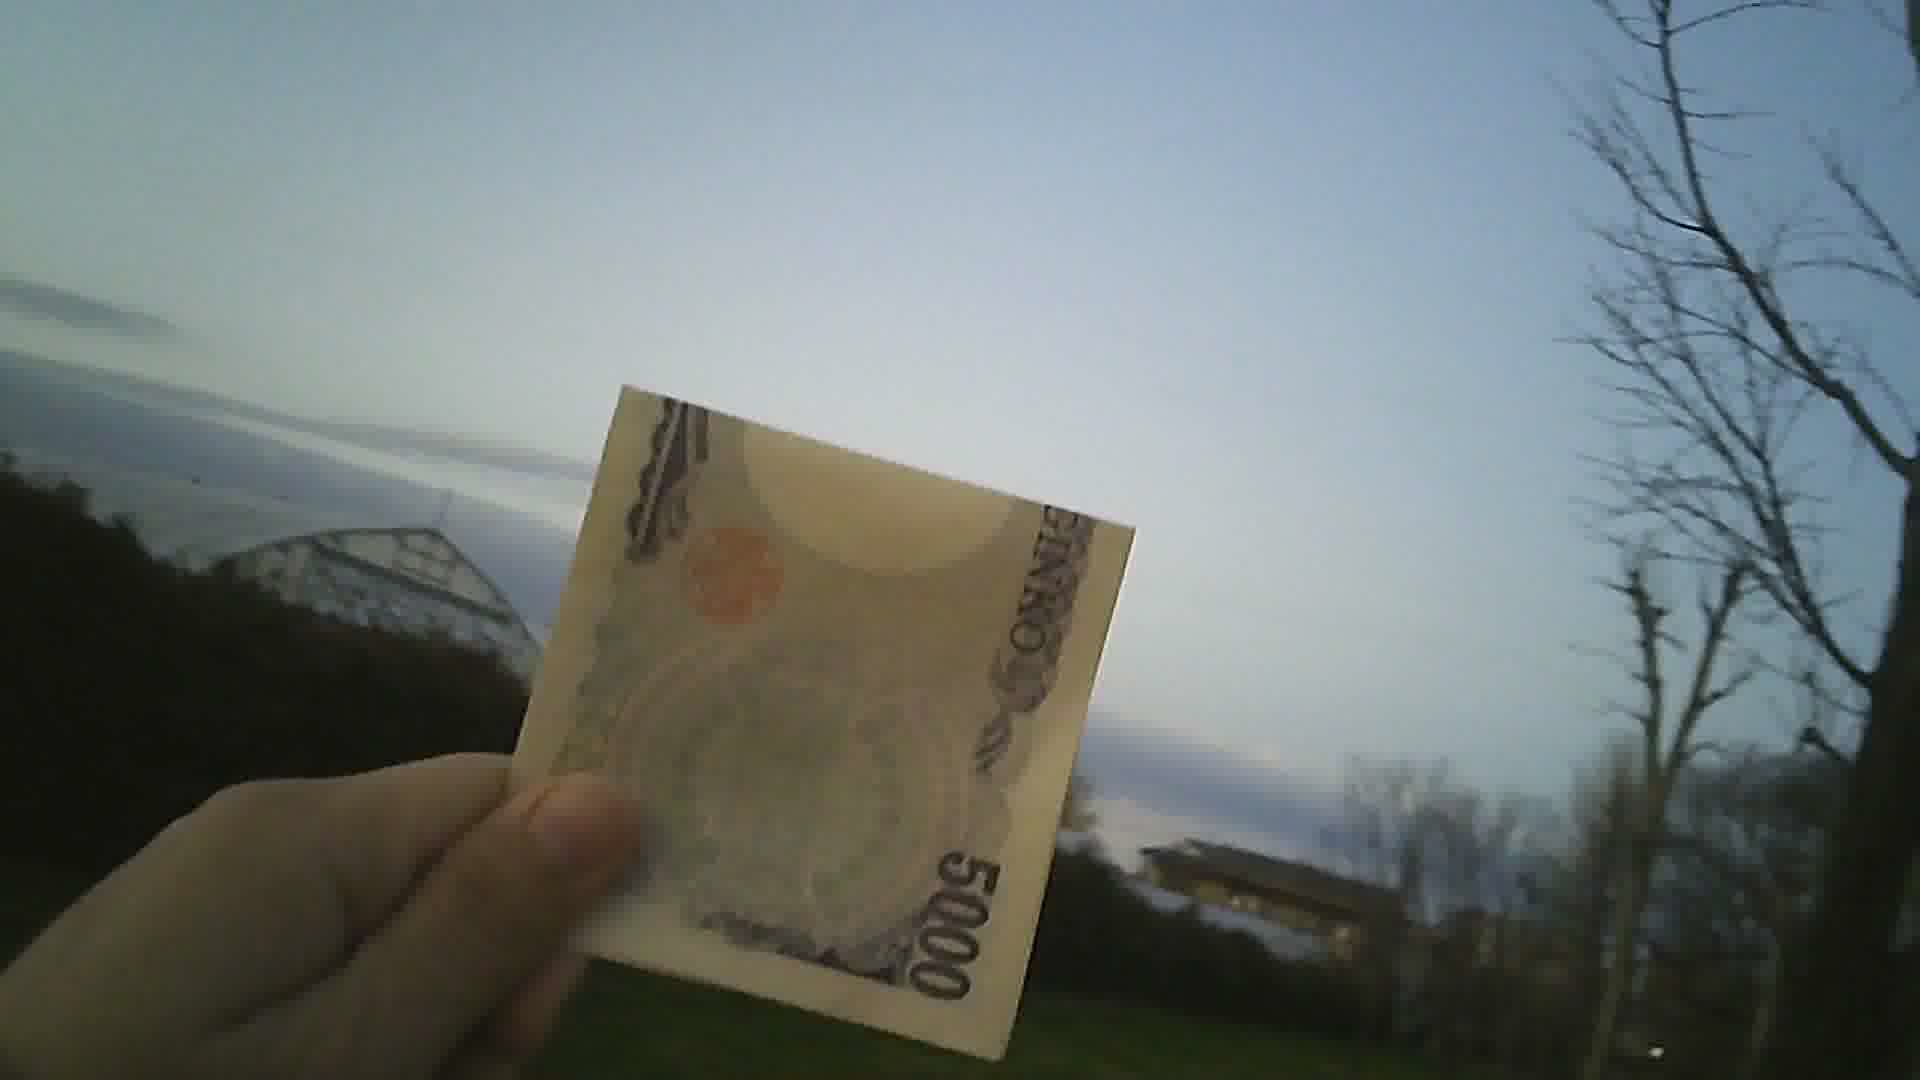5,000 Yen: (472, 378, 1124, 1055)
